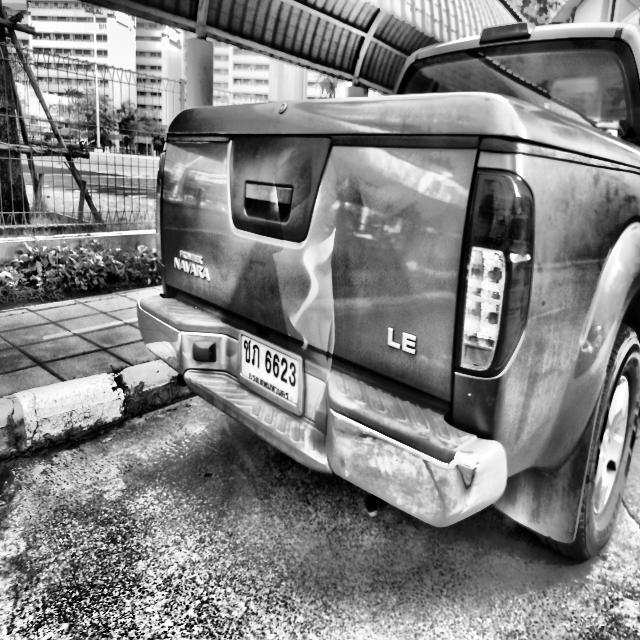license-plate: (237, 326, 306, 418)
